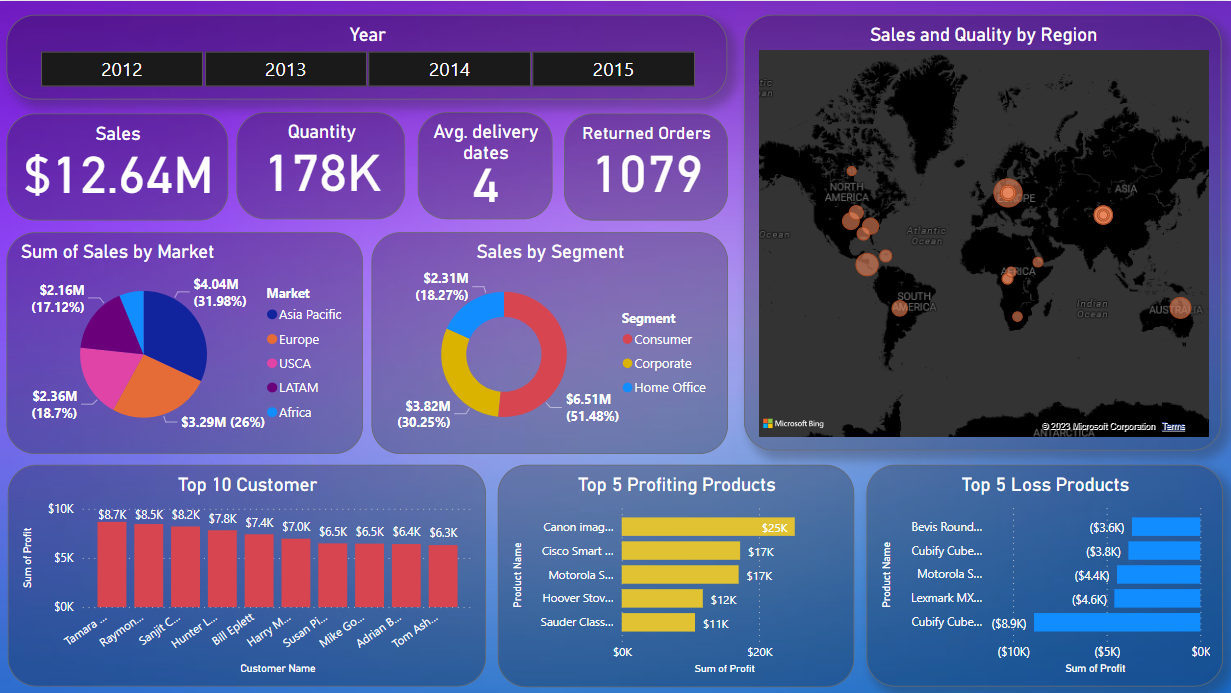

Layout of this report page (visuals, bound fields, positions):
{"tool":"powerbi","page":{"name":"Page 1","canvas":[1280,720],"ordinal":0},"visuals":[{"type":"card","title":"Sales","fields":{"Values":["Orders.Sales"]},"box":[8.2,116.5,230,111.1],"z":0},{"type":"card","title":"Quantity","fields":{"Values":["Orders.Quantity"]},"box":[246.8,115.2,175.5,111.1],"z":1000},{"type":"card","title":"Avg. delivery dates","fields":{"Values":["Orders.Delivery Days"]},"box":[434.6,115.2,139.8,111.1],"z":2000},{"type":"slicer","title":"Year","fields":{"Values":["Orders.Year"]},"box":[8.2,13.7,748.6,87.7],"z":3000},{"type":"card","title":"Returned Orders","fields":{"Values":["Returns.Return Orders"]},"box":[586.8,116.5,170,111.1],"z":4000},{"type":"map","title":"Sales and Quality by Region","fields":{"Category":["Orders.Region"],"Size":["Orders.Sales"]},"box":[774.6,13.7,496.3,452.4],"z":5000},{"type":"columnChart","title":"Top 10 Customer","fields":{"Y":["Orders.Profit"],"Category":["Orders.Customer Name"]},"box":[8.6,482.1,496.4,230.7],"z":6000},{"type":"donutChart","title":"Sales by Segment","fields":{"Category":["Orders.Segment"],"Y":["Orders.Sales"]},"box":[386.6,239.9,370.2,230.3],"z":7000},{"type":"pieChart","fields":{"Category":["Orders.Market"],"Y":["Orders.Sales"]},"box":[8.2,239.9,370.2,230.3],"z":8000},{"type":"barChart","title":"Top 5 Profiting Products","fields":{"Category":["Orders.Product Name"],"Y":["Orders.Profit"]},"box":[518.2,481.8,370.1,231.2],"z":9000},{"type":"clusteredBarChart","title":"Top 5 Loss Products","fields":{"Category":["Orders.Product Name"],"Y":["Orders.Profit"]},"box":[900.7,482.1,370,230.7],"z":10000}]}

Visuals, with their boxes in screenshot pixels (x1, y1, x2, y2), scaled from the page's 1280x720 canvas onto the 1231x693 screenshot:
"Sales" card: 8:112:229:219
"Quantity" card: 237:111:406:218
"Avg. delivery dates" card: 418:111:552:218
"Year" slicer: 8:13:728:98
"Returned Orders" card: 564:112:728:219
"Sales and Quality by Region" map: 745:13:1222:449
"Top 10 Customer" columnChart: 8:464:486:686
"Sales by Segment" donutChart: 372:231:728:453
pieChart - Orders.Market x Orders.Sales: 8:231:364:453
"Top 5 Profiting Products" barChart: 498:464:854:686
"Top 5 Loss Products" clusteredBarChart: 866:464:1222:686
